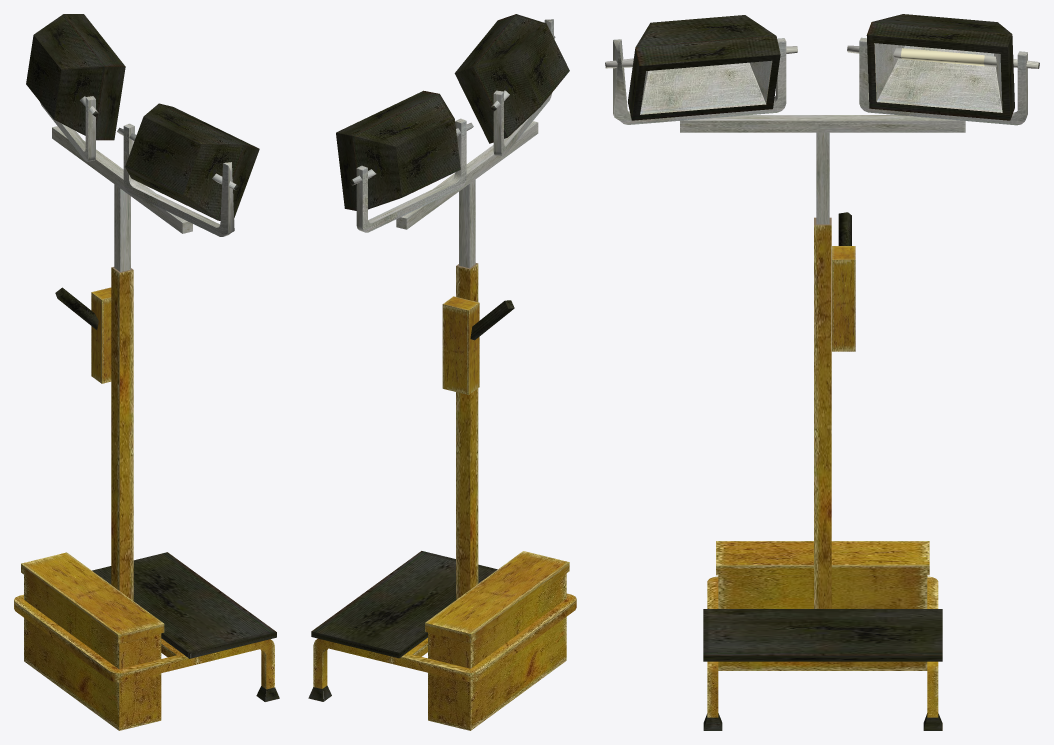
The model's file is light_floodlight02_off.glb.
The picture shows the model from 3 angles, left to right: view 1: azimuth 30°, elevation 25°; view 2: azimuth 150°, elevation 25°; view 3: azimuth 270°, elevation 25°; orthographic projection. The views are drawn at different scales.
Parts seen in each view (by area): view 1: 0_floodlighthousing; view 2: 0_floodlighthousing; view 3: 0_floodlighthousing, 1_floodlightbulboff.
Boxes of the visible parts, x1=… form: 0_floodlighthousing: x1=14, y1=14, x2=279, y2=730; 0_floodlighthousing: x1=308, y1=14, x2=576, y2=730; 0_floodlighthousing: x1=605, y1=14, x2=1039, y2=730; 1_floodlightbulboff: x1=901, y1=48, x2=984, y2=66.
Bounding box in the file's own units: 0.6044 × 2.13 × 1.28.
Materials: 2 (2 with a texture image).
